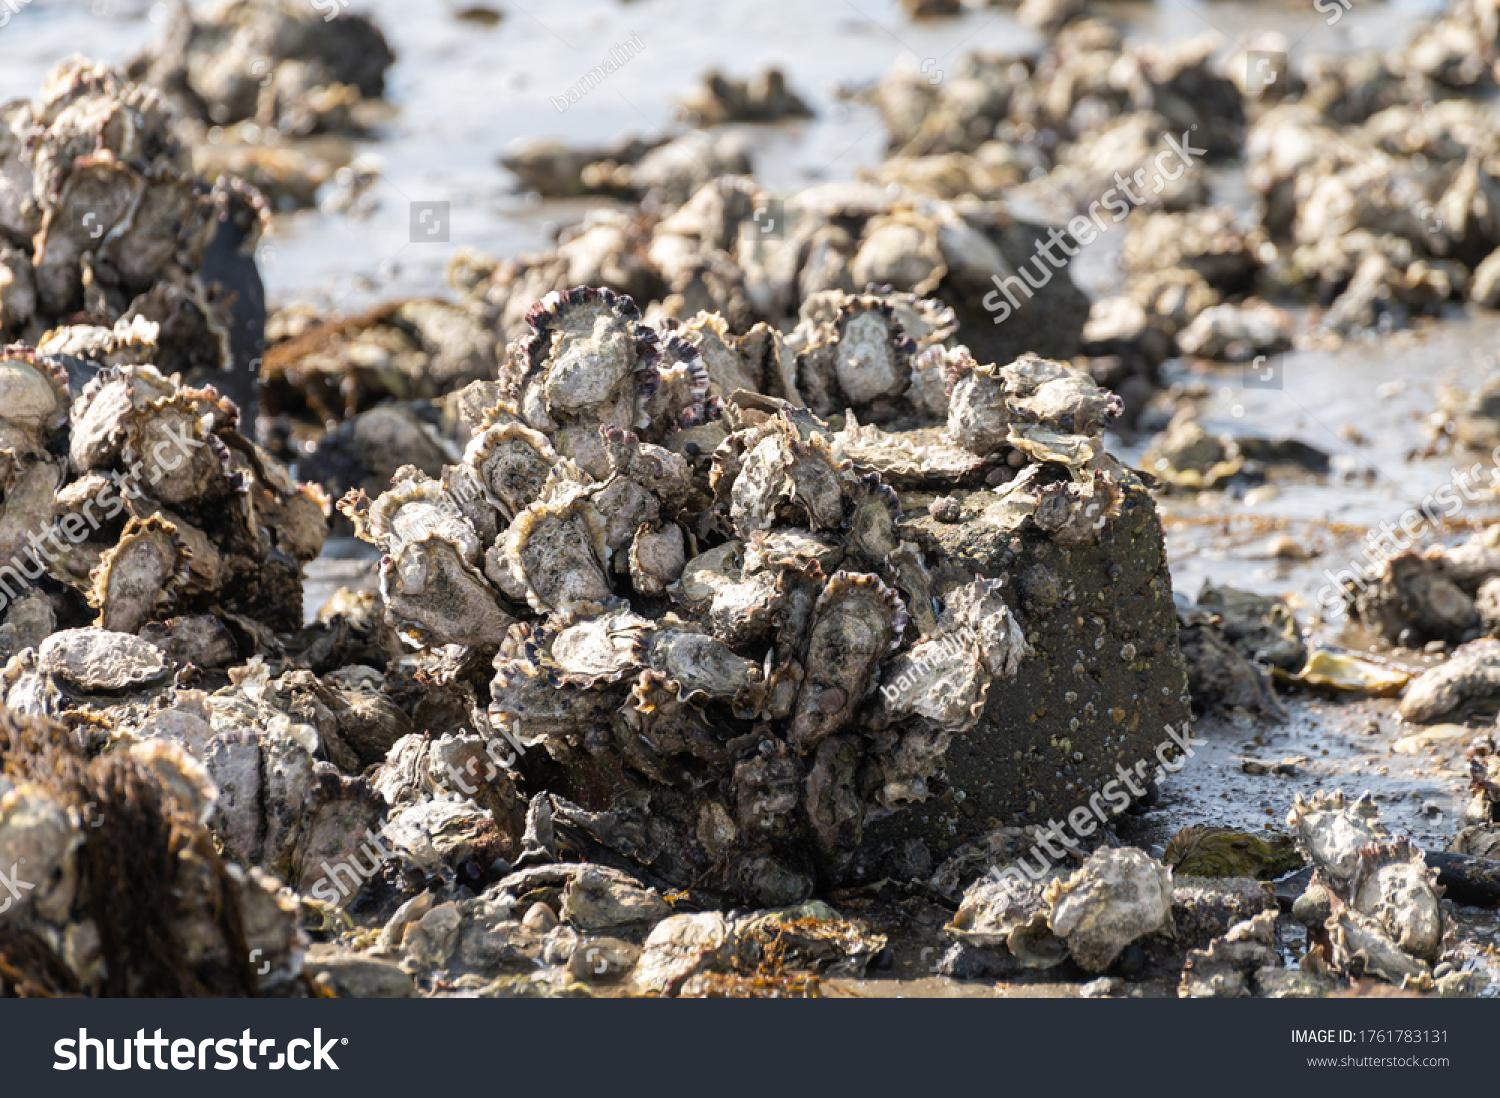Oyster: (374, 527, 530, 660), (27, 150, 157, 305), (1045, 845, 1177, 971), (398, 883, 566, 979), (1057, 108, 1217, 210), (368, 792, 514, 892), (1337, 837, 1450, 965), (289, 777, 398, 906), (1112, 203, 1268, 292), (505, 501, 620, 621), (726, 412, 826, 538), (333, 397, 461, 490), (385, 297, 502, 396), (0, 782, 80, 925), (622, 125, 765, 203), (1002, 356, 1130, 442), (1283, 785, 1393, 885), (0, 451, 72, 593), (200, 729, 271, 872), (309, 667, 413, 764), (1193, 581, 1304, 671), (948, 859, 1060, 947), (849, 212, 960, 299), (64, 368, 151, 475), (1377, 554, 1483, 640), (38, 626, 174, 694), (1398, 635, 1500, 723), (543, 610, 660, 685), (638, 625, 748, 704), (496, 135, 634, 197), (1166, 874, 1278, 947), (1174, 298, 1299, 362), (557, 865, 671, 933), (423, 732, 519, 808), (636, 907, 735, 977), (0, 352, 70, 449), (134, 610, 240, 674), (785, 179, 903, 228), (299, 951, 419, 997), (395, 897, 466, 966), (625, 518, 689, 593), (0, 585, 61, 658), (564, 934, 643, 984), (1177, 954, 1254, 999)
